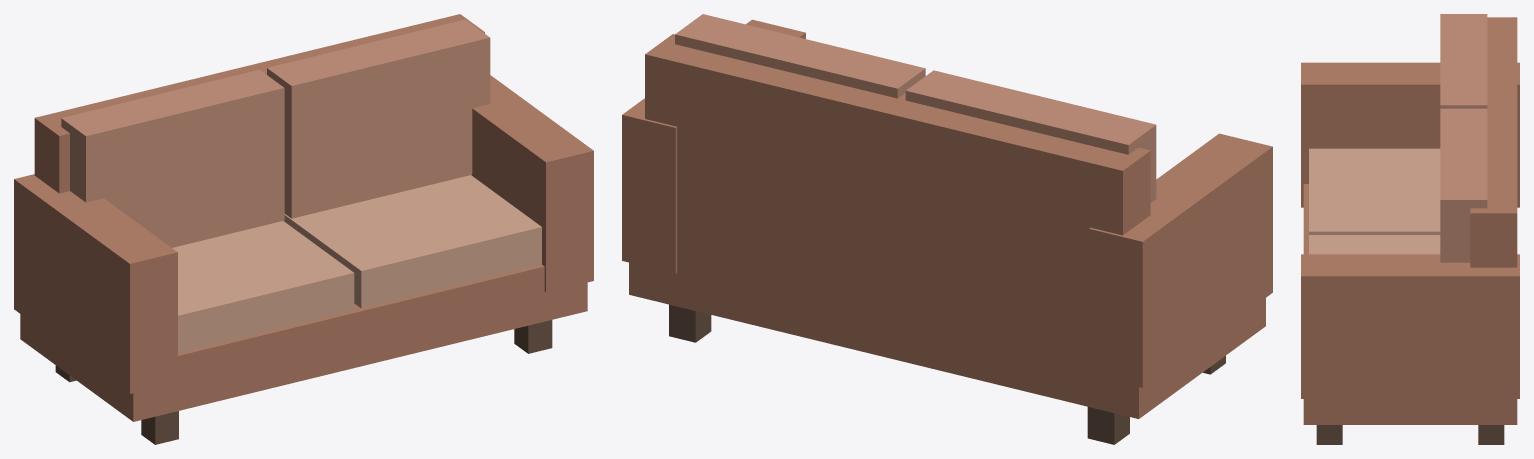
File: sofa.glb
The picture shows the model from 3 angles, left to right: view 1: azimuth 30°, elevation 25°; view 2: azimuth 150°, elevation 25°; view 3: azimuth 270°, elevation 25°; orthographic projection. The views are drawn at different scales.
Parts seen in each view (by area): view 1: Terracotta, BackFabric, SeatFabric, Wood; view 2: Terracotta, BackFabric, Wood; view 3: Terracotta, SeatFabric, BackFabric, Wood.
Boxes of the visible parts, x1,y1,x2,y2 form: Terracotta: [14, 14, 593, 421]; BackFabric: [61, 19, 490, 247]; SeatFabric: [172, 175, 541, 353]; Wood: [55, 320, 552, 444]; Terracotta: [622, 19, 1272, 418]; BackFabric: [675, 14, 1156, 202]; Wood: [669, 304, 1225, 444]; Terracotta: [1301, 17, 1519, 424]; SeatFabric: [1309, 148, 1440, 254]; BackFabric: [1440, 14, 1487, 262]; Wood: [1316, 425, 1504, 444].
Bounding box in the file's own units: 1.94 × 1.04 × 0.84.
